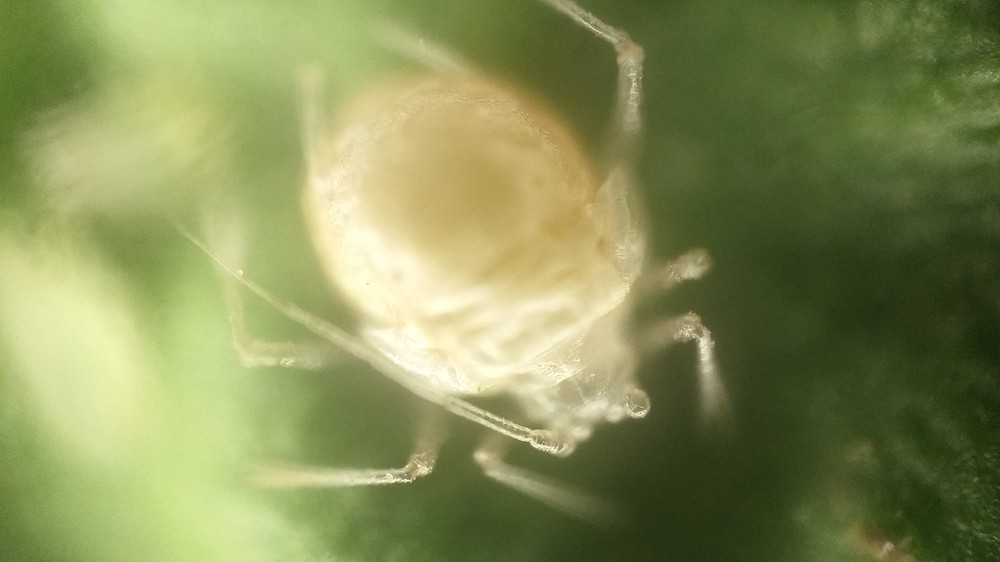Pulgon: (183, 3, 774, 548)
